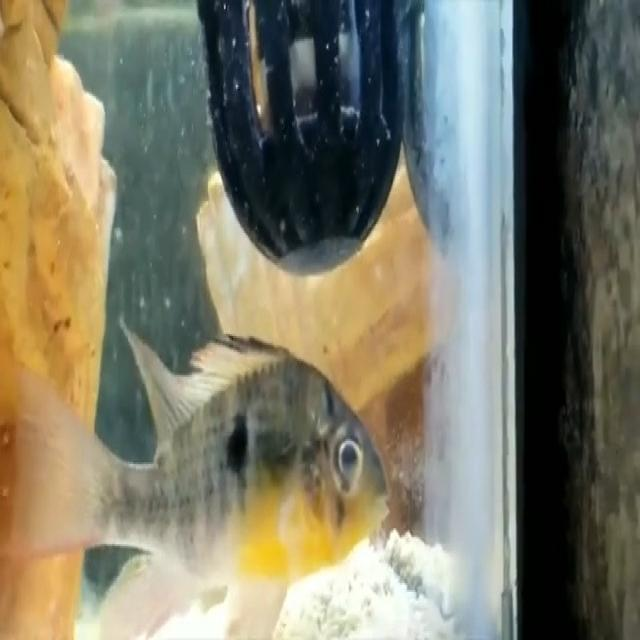fish: (7, 334, 396, 640)
